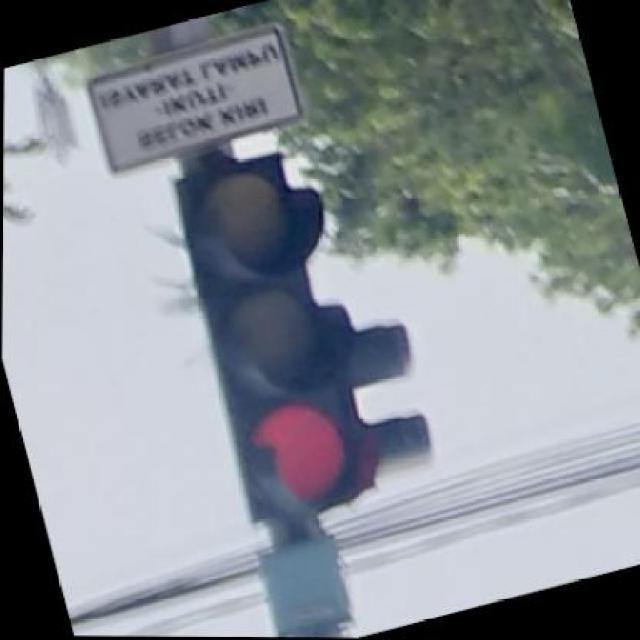red_light: (176, 150, 379, 542)
